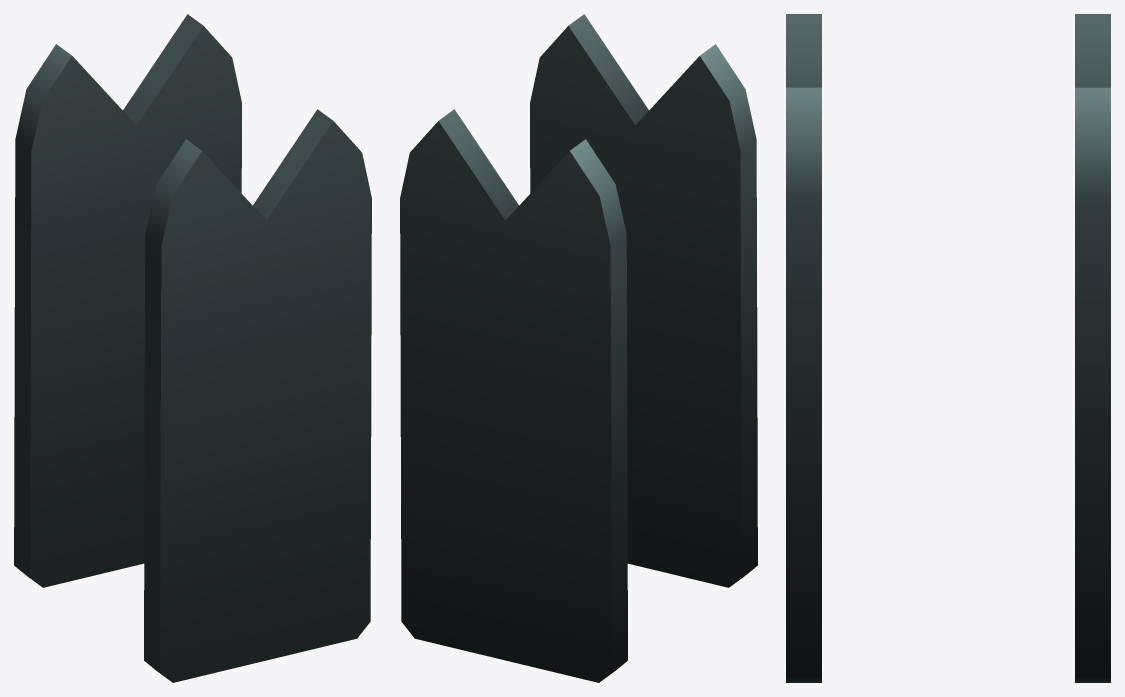
Rendered from Giant_Pipe_Support_1B.fbx.
3 renders of one model, left to right at view 1: azimuth 30°, elevation 25°; view 2: azimuth 150°, elevation 25°; view 3: azimuth 270°, elevation 25°, orthographic. The views are drawn at different scales.
Visible parts, largest first — view 1: Giant_Pipe_Support_1B; view 2: Giant_Pipe_Support_1B; view 3: Giant_Pipe_Support_1B.
Boxes of the visible parts, <box> form: Giant_Pipe_Support_1B: <box>14,14,371,682</box>; Giant_Pipe_Support_1B: <box>400,14,757,682</box>; Giant_Pipe_Support_1B: <box>786,14,1110,682</box>.
Size of the model in its own units: 2.01 by 4.77 by 2.4.
